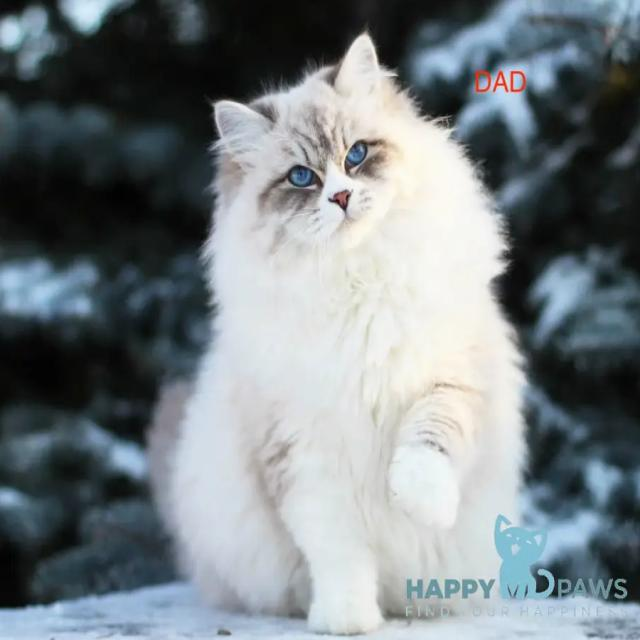Neva Masquerade: (145, 28, 532, 639)
